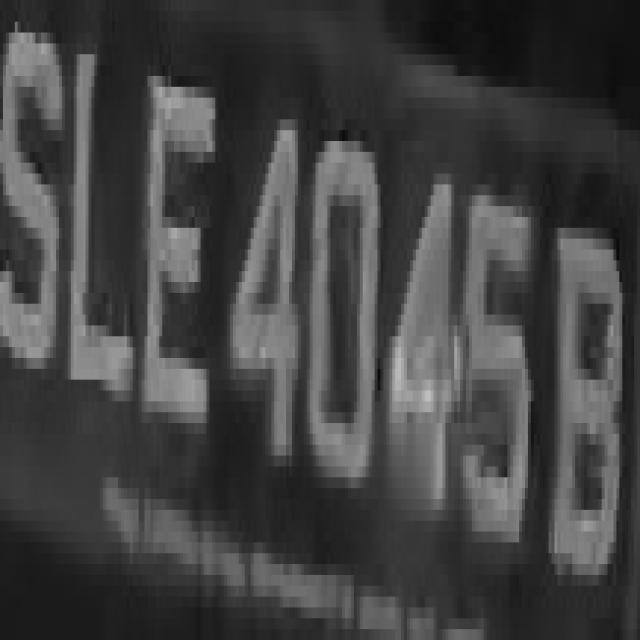0: (306, 76, 374, 521)
4: (383, 76, 469, 553), (230, 22, 310, 499)
5: (466, 130, 537, 575)
B: (546, 185, 622, 608)
E: (136, 11, 221, 499)
L: (68, 11, 144, 434)
S: (3, 0, 59, 401)
